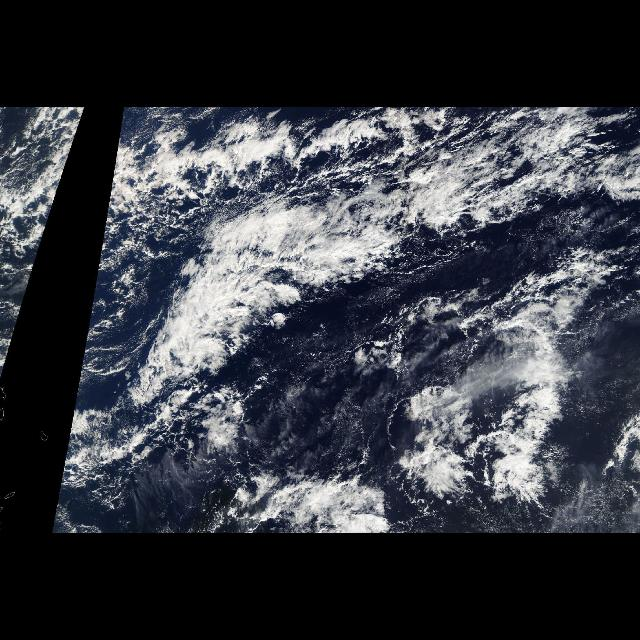Fish: (66, 162, 398, 503)
